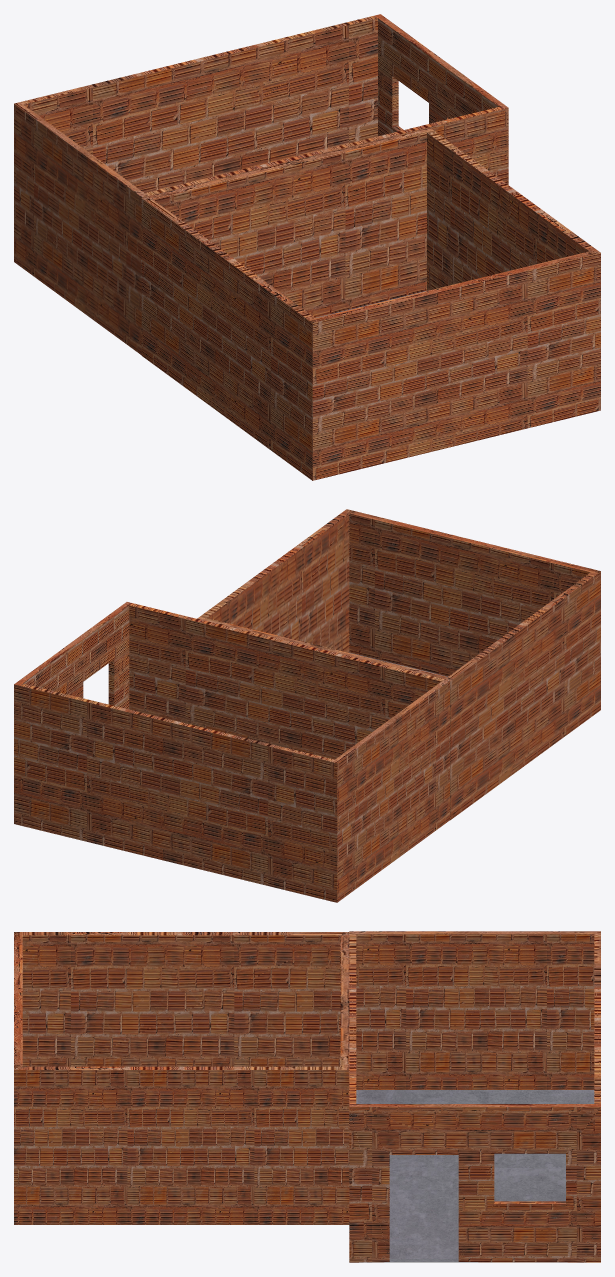
File: casaemobra2.glb
3 views of the same model, one above another, from view 1: azimuth 30°, elevation 25°; view 2: azimuth 150°, elevation 25°; view 3: azimuth 270°, elevation 25° (orthographic). The views are drawn at different scales.
Parts seen in each view (by area): view 1: Plano.001, Plano; view 2: Plano, Plano.001; view 3: Plano.001, Plano.
Part boxes in pixels (left/top/right/bottom): Plano.001: left=141, top=128, right=600, bottom=480; Plano: left=14, top=14, right=508, bottom=354; Plano: left=14, top=602, right=449, bottom=902; Plano.001: left=197, top=509, right=600, bottom=820; Plano.001: left=14, top=932, right=349, bottom=1224; Plano: left=349, top=931, right=600, bottom=1262.
Size of the model in its own units: 9.93 by 4.09 by 14.
5 materials, 4 textured.
